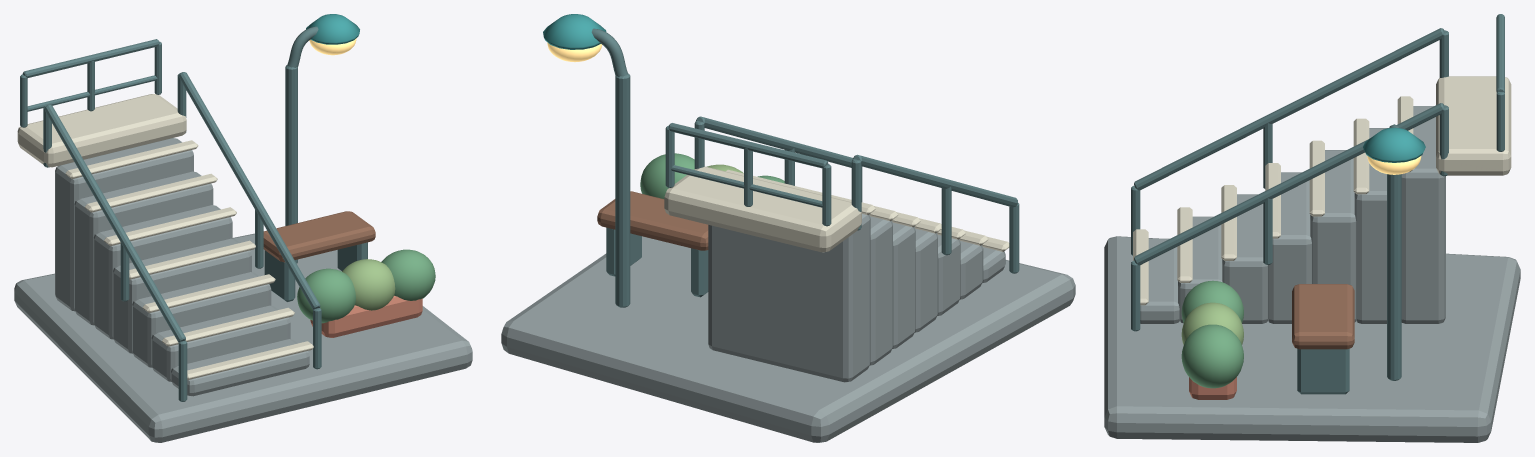
Rendered from city_decor_b.glb.
3 views of the same model, side by side, from view 1: azimuth 30°, elevation 25°; view 2: azimuth 150°, elevation 25°; view 3: azimuth 270°, elevation 25° (orthographic). The views are drawn at different scales.
Parts seen in each view (by area): view 1: Batched City v2 warm grey retaining stone, Batched City v2 smooth step edges, Batched City v2 iron and rail, Batched City v2 terrace leaves, Batched City v2 carved balcony wood, Batched City v2 faded terracotta plaster, Batched City v2 sunlit terrace leaves, Batched City v2 transit enamel, Batched City v2 butterlit windows; view 2: Batched City v2 warm grey retaining stone, Batched City v2 iron and rail, Batched City v2 smooth step edges, Batched City v2 carved balcony wood, Batched City v2 transit enamel, Batched City v2 terrace leaves, Batched City v2 butterlit windows; view 3: Batched City v2 warm grey retaining stone, Batched City v2 iron and rail, Batched City v2 smooth step edges, Batched City v2 terrace leaves, Batched City v2 carved balcony wood, Batched City v2 transit enamel, Batched City v2 sunlit terrace leaves, Batched City v2 faded terracotta plaster, Batched City v2 butterlit windows.
Part boxes in pixels (left/top/right/bottom): Batched City v2 warm grey retaining stone: left=14, top=138, right=472, bottom=442; Batched City v2 smooth step edges: left=17, top=94, right=313, bottom=379; Batched City v2 iron and rail: left=20, top=26, right=367, bottom=401; Batched City v2 terrace leaves: left=297, top=249, right=435, bottom=323; Batched City v2 carved balcony wood: left=263, top=211, right=375, bottom=262; Batched City v2 faded terracotta plaster: left=310, top=295, right=422, bottom=337; Batched City v2 sunlit terrace leaves: left=342, top=259, right=395, bottom=310; Batched City v2 transit enamel: left=306, top=14, right=359, bottom=44; Batched City v2 butterlit windows: left=309, top=38, right=356, bottom=55; Batched City v2 warm grey retaining stone: left=501, top=214, right=1075, bottom=442; Batched City v2 iron and rail: left=591, top=28, right=1019, bottom=307; Batched City v2 smooth step edges: left=664, top=166, right=1009, bottom=252; Batched City v2 carved balcony wood: left=597, top=191, right=708, bottom=250; Batched City v2 transit enamel: left=543, top=14, right=606, bottom=49; Batched City v2 terrace leaves: left=640, top=153, right=784, bottom=198; Batched City v2 butterlit windows: left=547, top=42, right=602, bottom=62; Batched City v2 warm grey retaining stone: left=1104, top=106, right=1520, bottom=442; Batched City v2 iron and rail: left=1131, top=14, right=1504, bottom=394; Batched City v2 smooth step edges: left=1133, top=76, right=1511, bottom=305; Batched City v2 terrace leaves: left=1181, top=280, right=1243, bottom=388; Batched City v2 carved balcony wood: left=1292, top=284, right=1354, bottom=349; Batched City v2 transit enamel: left=1363, top=127, right=1425, bottom=162; Batched City v2 sunlit terrace leaves: left=1181, top=302, right=1243, bottom=344; Batched City v2 faded terracotta plaster: left=1189, top=377, right=1236, bottom=399; Batched City v2 butterlit windows: left=1367, top=156, right=1421, bottom=174.
Size of the model in its own units: 2.09 by 1.6 by 2.
